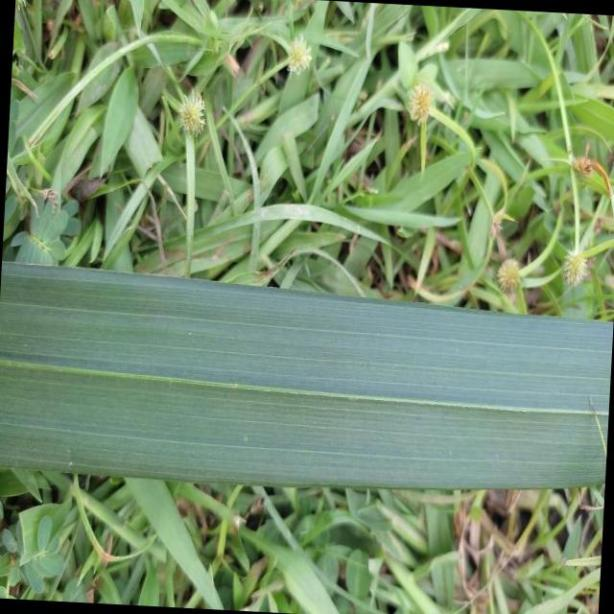Healthy: (0, 266, 614, 492)
